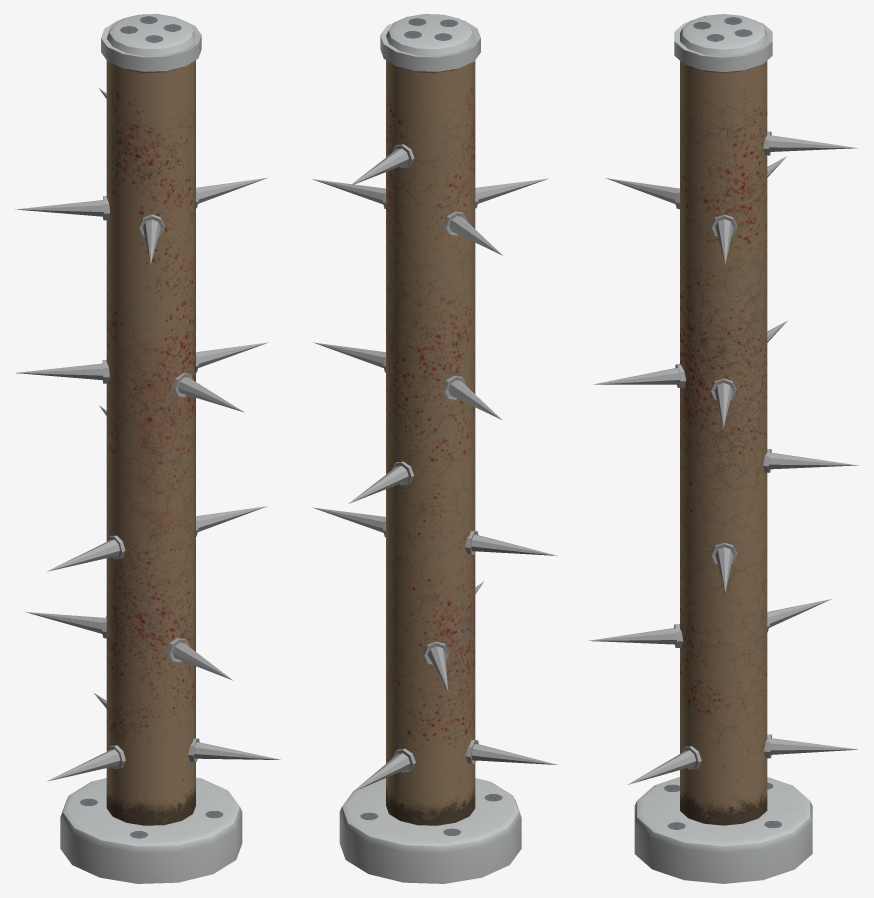
File: tramp_spike.fbx
The picture shows the model from 3 angles, left to right: view 1: azimuth 30°, elevation 25°; view 2: azimuth 150°, elevation 25°; view 3: azimuth 270°, elevation 25°; orthographic projection.
Parts seen in each view (by area): view 1: stick, spike_03, spike_15, spike_06, spike_14, spike_10, spike_08, spike_13, spike_12, spike_05, spike_07, spike_04 (+1 smaller); view 2: stick, spike_10, spike_14, spike_02, spike_09, spike_16, spike_06, spike_03, spike_05, spike_12, spike_04, spike_11 (+1 smaller); view 3: stick, spike_08, spike_13, spike_16, spike_02, spike_09, spike_15, spike_05, spike_04, spike_11, spike_07, spike_12.
Boxes of the visible parts, box(x1,y1,x2,y2) form: stick: box(60, 14, 242, 883); spike_03: box(14, 196, 109, 220); spike_15: box(188, 738, 280, 762); spike_06: box(16, 360, 109, 383); spike_14: box(47, 745, 125, 781); spike_10: box(47, 535, 125, 571); spike_08: box(172, 373, 244, 412); spike_13: box(166, 638, 232, 680); spike_12: box(25, 612, 106, 638); spike_05: box(139, 214, 164, 264); spike_07: box(196, 342, 268, 372); spike_04: box(196, 177, 267, 208); stick: box(339, 14, 521, 883); spike_10: box(465, 530, 557, 555); spike_14: box(465, 740, 557, 764); spike_02: box(349, 144, 414, 186); spike_09: box(348, 461, 414, 503); spike_16: box(353, 748, 415, 791); spike_06: box(442, 375, 502, 420); spike_03: box(443, 211, 502, 255); spike_05: box(475, 178, 548, 208); spike_12: box(423, 641, 448, 691); spike_04: box(312, 179, 385, 208); spike_11: box(313, 507, 385, 537); stick: box(634, 14, 812, 883); spike_08: box(593, 364, 686, 387); spike_13: box(588, 624, 683, 647); spike_16: box(764, 734, 857, 758); spike_02: box(763, 131, 858, 155); spike_09: box(763, 449, 858, 472); spike_15: box(627, 746, 701, 784); spike_05: box(605, 178, 679, 209); spike_04: box(711, 214, 736, 264); spike_11: box(711, 543, 736, 592); spike_07: box(711, 378, 736, 427); spike_12: box(767, 599, 831, 632).
Bounding box in the file's own units: 6.06 × 20.12 × 6.1.
2 materials, 1 textured.
